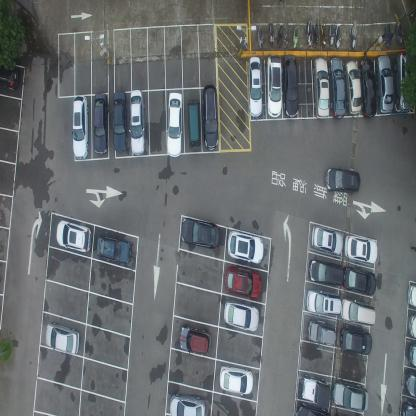car: (224, 264, 262, 300), (180, 216, 220, 250), (227, 229, 264, 264), (223, 300, 259, 334), (55, 219, 92, 252), (332, 379, 369, 412), (45, 321, 80, 355), (72, 94, 90, 160), (394, 52, 413, 113), (220, 362, 254, 396), (327, 58, 346, 118), (202, 83, 219, 150), (266, 53, 283, 119), (166, 91, 183, 157), (312, 57, 330, 119), (358, 56, 376, 118), (301, 372, 331, 409), (376, 55, 394, 114), (178, 324, 211, 356), (129, 90, 145, 156), (344, 233, 378, 264), (340, 297, 376, 326), (308, 258, 345, 286), (283, 54, 299, 118), (93, 91, 109, 155), (96, 235, 131, 264), (344, 60, 362, 116), (247, 56, 263, 118), (310, 225, 343, 255), (343, 266, 376, 296), (112, 91, 128, 152), (340, 326, 372, 356), (168, 391, 206, 416), (326, 166, 360, 193), (306, 288, 341, 314), (307, 318, 337, 347), (186, 98, 201, 150), (0, 61, 20, 90), (295, 402, 330, 415), (404, 369, 416, 397), (407, 283, 416, 310), (402, 400, 416, 416), (408, 313, 416, 339), (408, 341, 416, 366)
